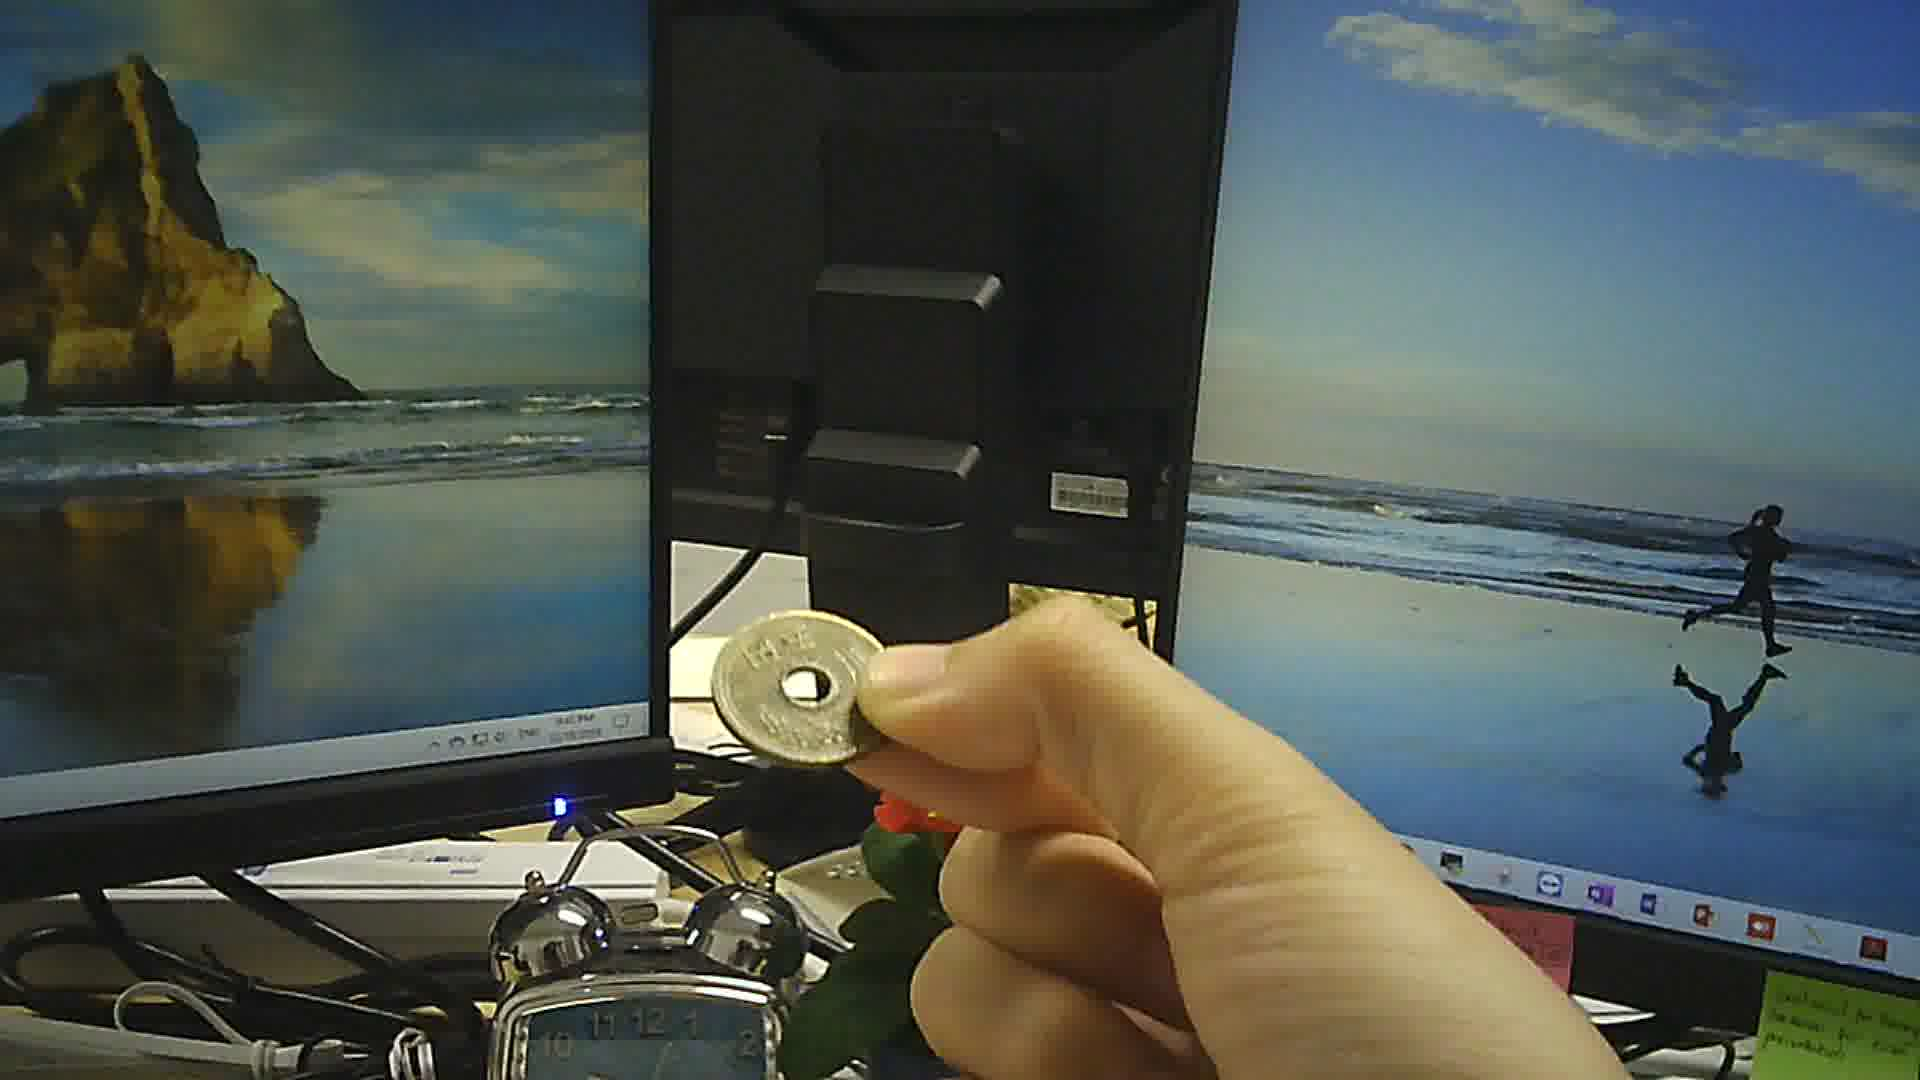5 Yen: (708, 611, 891, 760)
